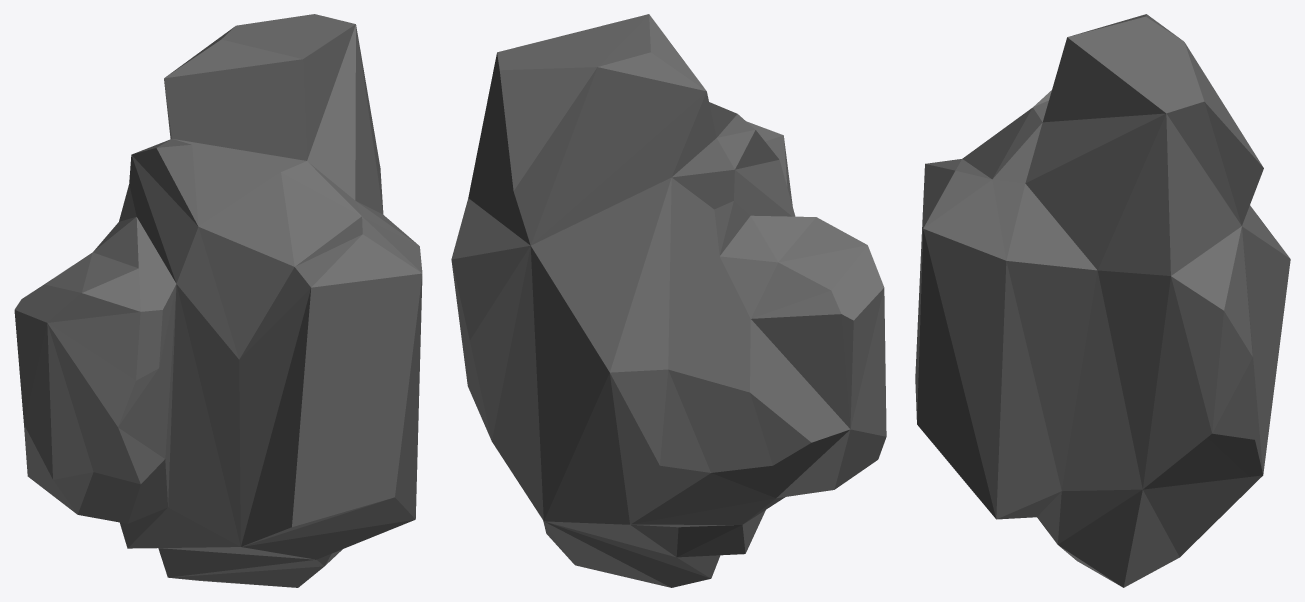
File: rock__rock4_natural_medium.glb
3 views of the same model, side by side, from view 1: azimuth 30°, elevation 25°; view 2: azimuth 150°, elevation 25°; view 3: azimuth 270°, elevation 25° (orthographic).
Visible parts, largest first — view 1: rock4.natural.medium; view 2: rock4.natural.medium; view 3: rock4.natural.medium.
Part boxes in pixels (left/top/right/bottom): rock4.natural.medium: left=14, top=14, right=422, bottom=587; rock4.natural.medium: left=451, top=14, right=886, bottom=587; rock4.natural.medium: left=915, top=14, right=1290, bottom=587.
Bounding box in the file's own units: 3.13 × 4.25 × 2.74.
Materials: 1 (1 with a texture image).
